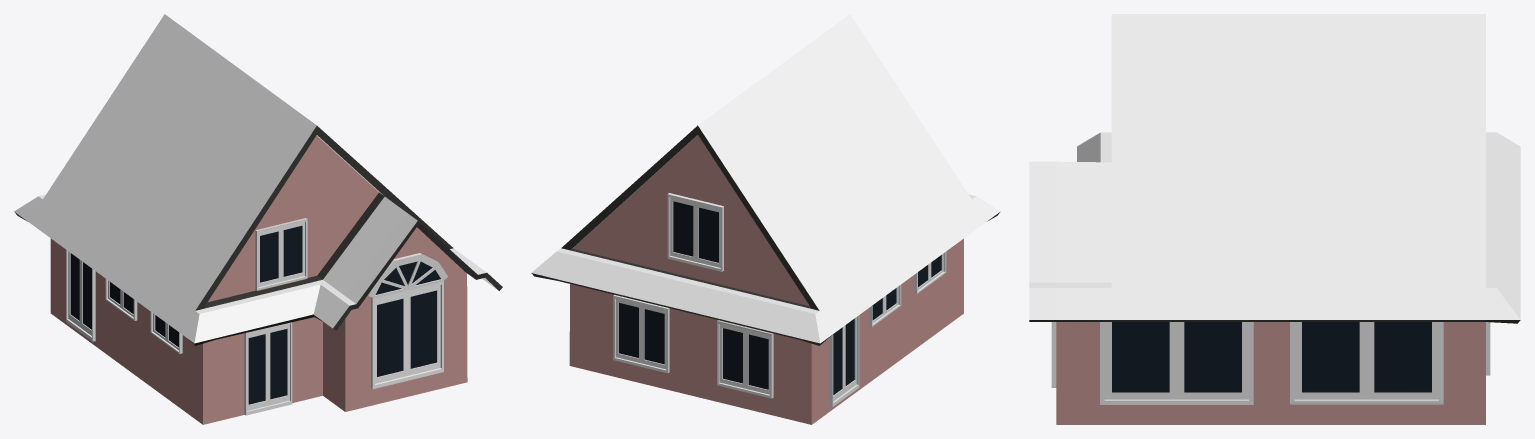
The model's file is Maison 4.fbx.
The picture shows the model from 3 angles, left to right: view 1: azimuth 30°, elevation 25°; view 2: azimuth 150°, elevation 25°; view 3: azimuth 270°, elevation 25°; orthographic projection. The views are drawn at different scales.
Visible parts, largest first — view 1: Maison1; view 2: Maison1; view 3: Maison1.
Part boxes in pixels (x1,y1,x2,y2): Maison1: (14,14,502,424); Maison1: (531,14,1000,424); Maison1: (1029,14,1520,424).
Bounding box in the file's own units: 223 × 200 × 266.
